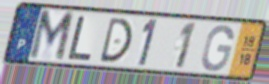1: (172, 21, 199, 71), (138, 17, 159, 69)
D: (97, 17, 134, 64)
G: (199, 23, 235, 73)
L: (65, 14, 95, 62)
M: (26, 9, 77, 64)
